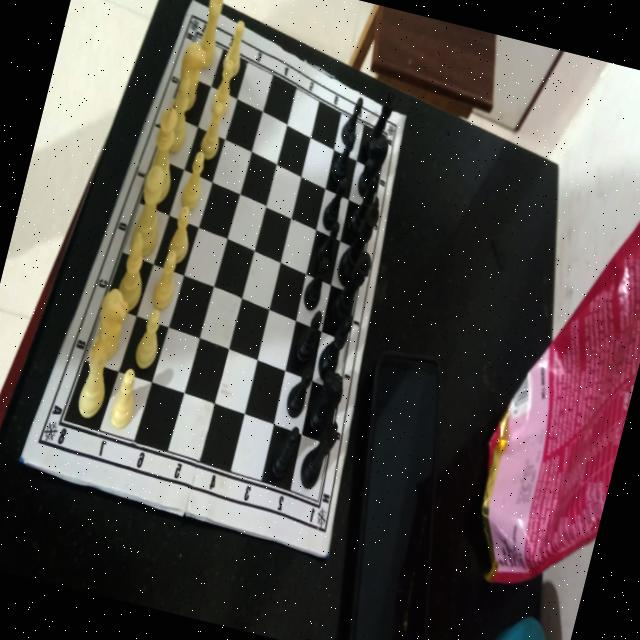corners: (318, 540, 338, 568), (13, 446, 32, 469), (398, 106, 413, 127), (186, 0, 199, 12)
